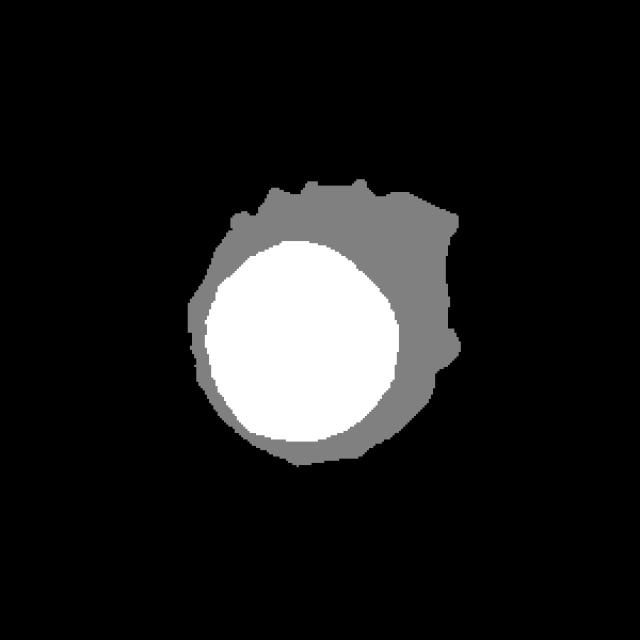WBC: (160, 160, 503, 489)
